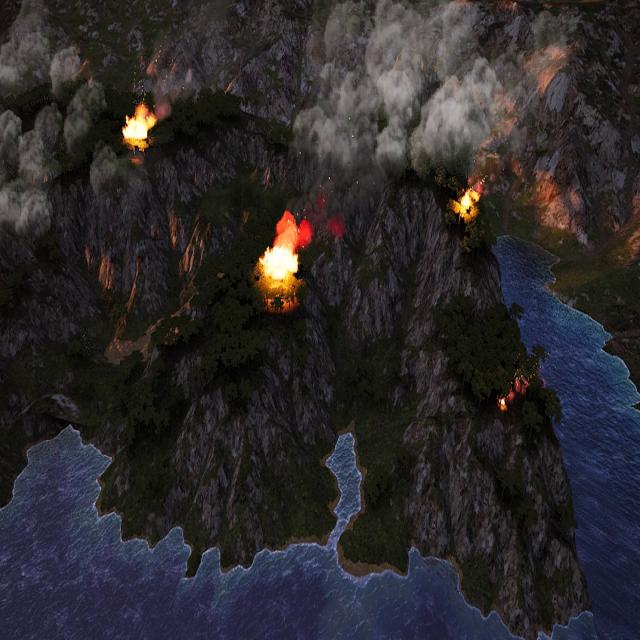fire: (258, 212, 308, 284), (123, 106, 157, 146), (498, 377, 529, 412), (455, 187, 479, 214)
smoke: (301, 0, 541, 174), (0, 0, 128, 240), (280, 175, 378, 241)
